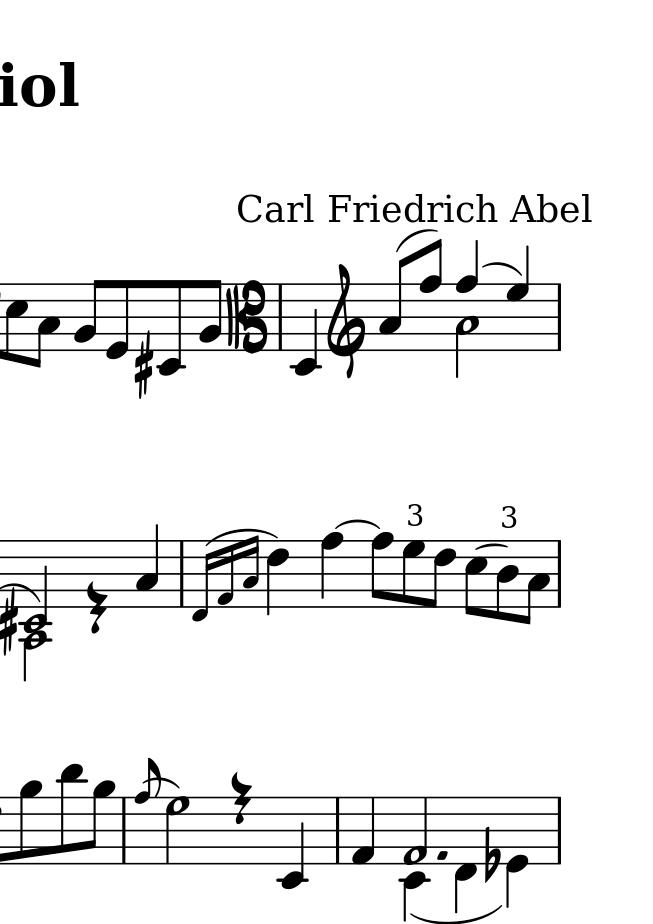2_1: (401, 795, 431, 867)
2_7: (163, 795, 188, 866)
3: (405, 502, 424, 528), (502, 503, 518, 531)
4_-1: (454, 796, 479, 915)
4_-2: (288, 282, 319, 375), (279, 794, 308, 891)
4_0: (505, 795, 527, 911)
4_1: (350, 796, 378, 865)
4_3: (134, 522, 161, 608)
4_6: (265, 538, 289, 617)
4_7: (503, 243, 531, 351)
4_8: (320, 531, 345, 609)
8_-2: (157, 278, 186, 377)
8_0: (102, 278, 132, 363)
8_11: (57, 763, 86, 866)
8_2: (71, 278, 105, 353), (192, 278, 223, 352)
8_3: (522, 537, 559, 625), (378, 254, 410, 352), (33, 284, 61, 369)
8_4: (494, 539, 520, 622)
8_5: (463, 538, 490, 619), (4, 282, 28, 363)
8_6: (428, 539, 458, 610)
8_7: (401, 538, 427, 609)
8_8: (419, 240, 446, 353), (369, 531, 394, 608)
8_9: (84, 781, 116, 867), (17, 778, 43, 866)
Appoggiature: (134, 758, 162, 862)
Cclef: (226, 280, 273, 352)
Flat: (482, 823, 500, 885)
Gclef: (327, 262, 364, 380)
Rests4: (230, 771, 254, 829), (85, 581, 108, 636)
Sharp: (133, 330, 154, 402), (1, 584, 20, 661)
Single_barline: (550, 798, 567, 864), (116, 797, 131, 864), (329, 797, 344, 864), (174, 540, 189, 606), (273, 284, 288, 349), (551, 285, 566, 349), (552, 541, 566, 607)
Slur: (413, 906, 505, 924), (203, 527, 278, 547), (395, 227, 439, 253), (483, 261, 522, 279), (331, 519, 379, 531), (474, 542, 508, 552)
